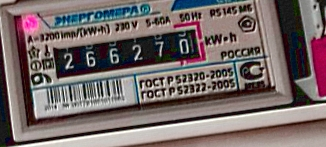0: (176, 35, 190, 56)
2: (60, 49, 77, 72), (130, 41, 144, 63)
6: (83, 48, 98, 69), (107, 45, 121, 65)
7: (152, 38, 167, 59)
screen: (38, 12, 217, 92)
